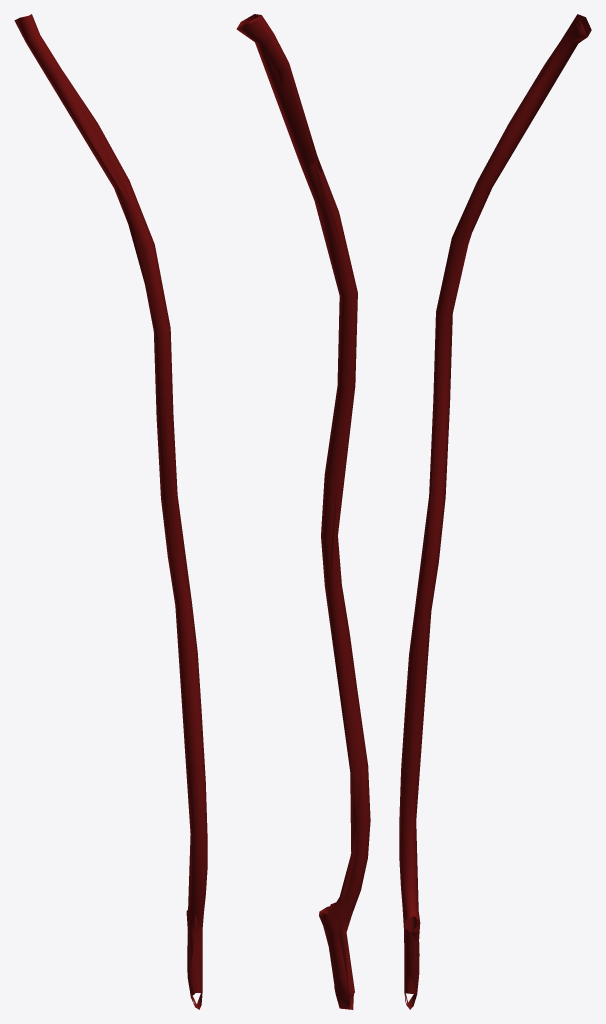
The model's file is R metatarseae plantares III.fbx.
3 renders of one model, left to right at view 1: azimuth 90°, elevation 25°; view 2: azimuth 150°, elevation 25°; view 3: azimuth 270°, elevation 25°, orthographic. The views are drawn at different scales.
Parts seen in each view (by area): view 1: R metatarseae plantares III, R metatarseae plantares III low; view 2: R metatarseae plantares III, R metatarseae plantares III low; view 3: R metatarseae plantares III, R metatarseae plantares III low.
Boxes of the visible parts, x1,y1,x2,y2 form: R metatarseae plantares III: [14, 14, 207, 1009]; R metatarseae plantares III low: [28, 15, 203, 1009]; R metatarseae plantares III: [237, 14, 370, 1009]; R metatarseae plantares III low: [237, 14, 367, 1009]; R metatarseae plantares III: [399, 14, 591, 1009]; R metatarseae plantares III low: [399, 14, 587, 1009].
Bounding box in the file's own units: 0.7194 × 13.25 × 2.33.
